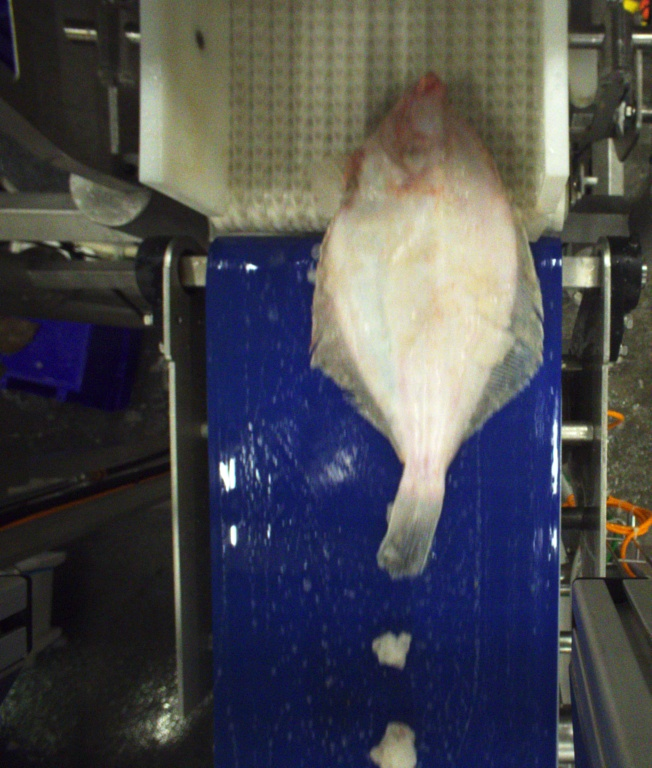PLE: (306, 71, 548, 577)
